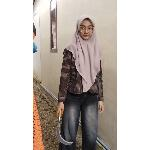Celurit: (54, 104, 77, 150)
